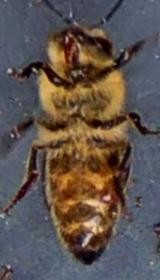varroa_mite: (98, 182, 117, 206)
